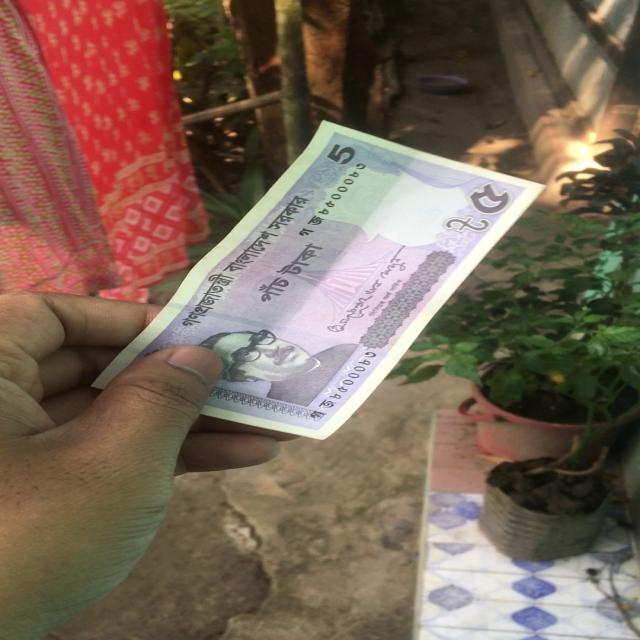Taka: (141, 117, 544, 439)
